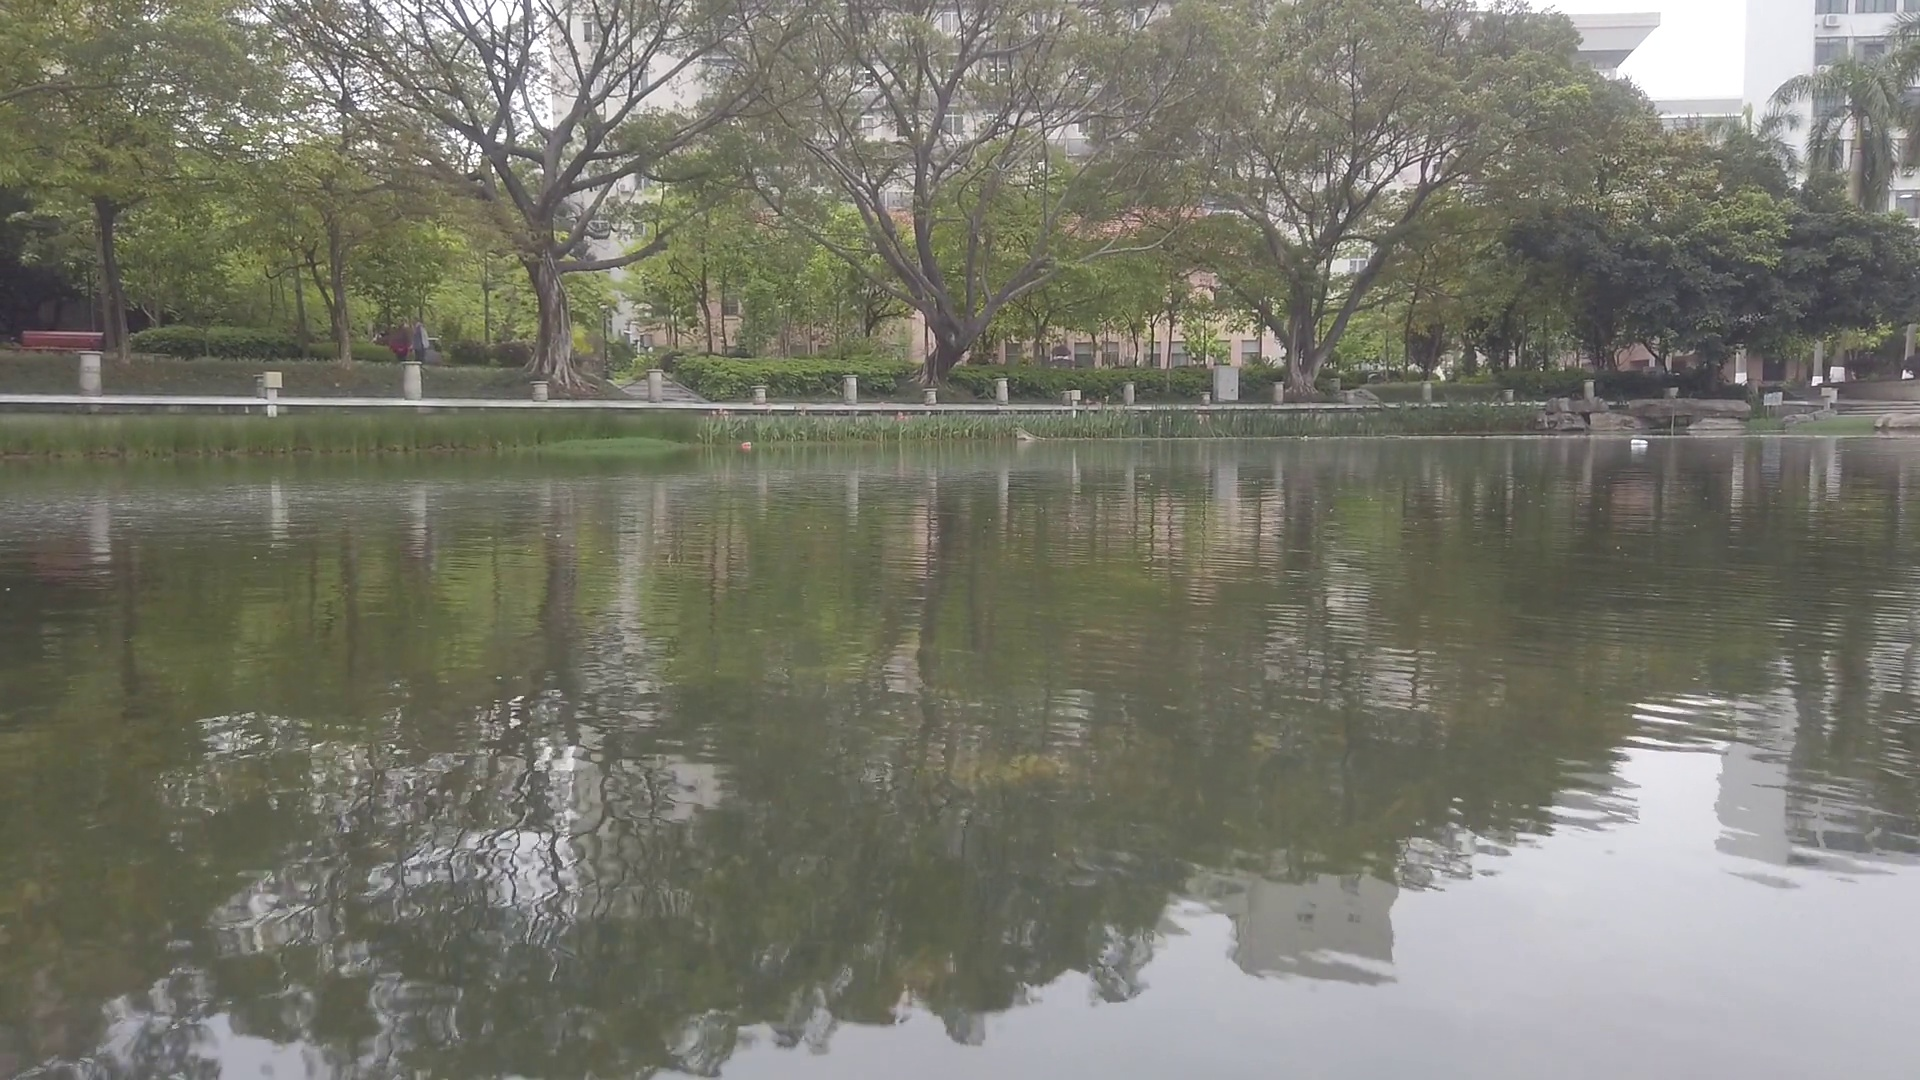bottle: (1631, 438, 1648, 446), (742, 440, 752, 446)
